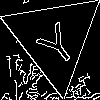Y: (29, 14, 81, 70)
